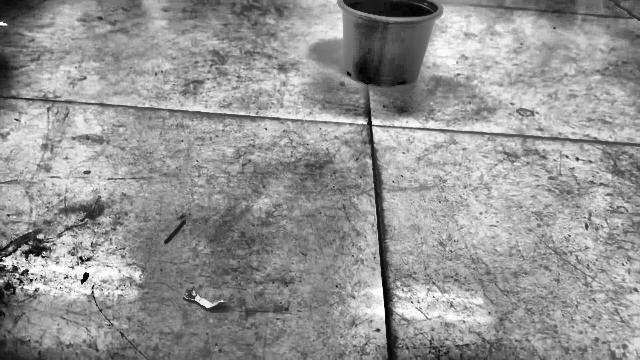pot: (338, 0, 441, 86)
